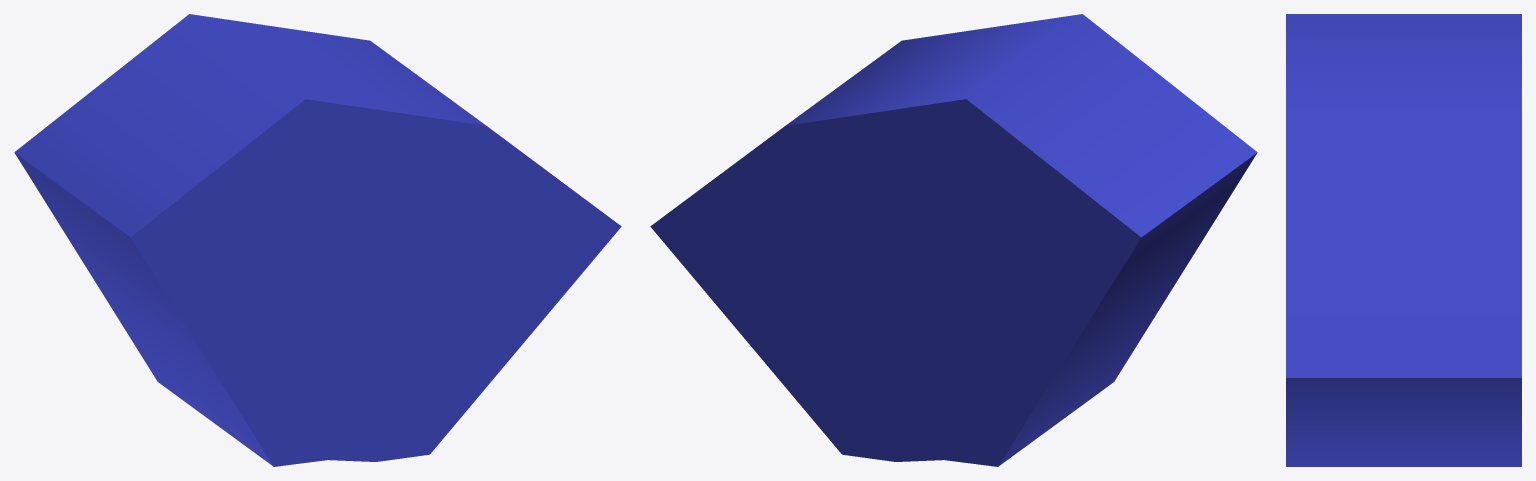
File: coal1.fbx
The picture shows the model from 3 angles, left to right: view 1: azimuth 30°, elevation 25°; view 2: azimuth 150°, elevation 25°; view 3: azimuth 270°, elevation 25°; orthographic projection.
Parts seen in each view (by area): view 1: root; view 2: root; view 3: root.
Part boxes in pixels (bbox=[...]): root: bbox=[14, 14, 621, 466]; root: bbox=[650, 14, 1257, 466]; root: bbox=[1286, 14, 1521, 466].
Size of the model in its own units: 0.0174 by 0.0131 by 0.00714.
